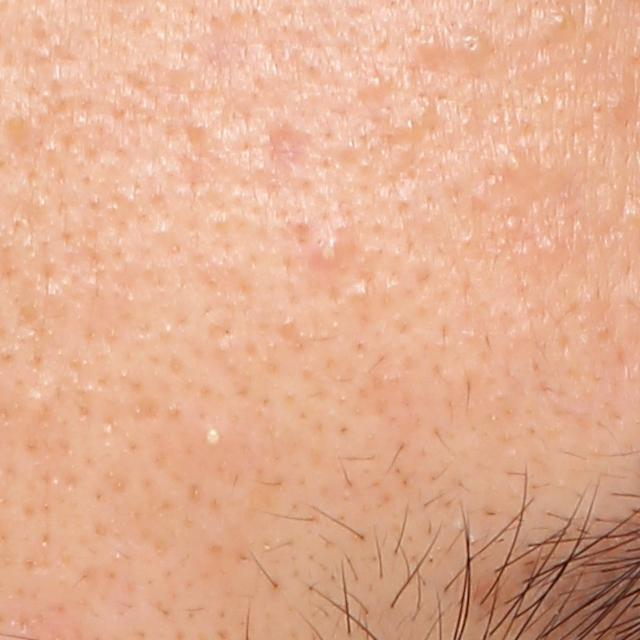comedo: (458, 31, 488, 62), (544, 12, 578, 39), (533, 233, 563, 263), (348, 278, 374, 305), (365, 71, 389, 93)
pustule: (303, 226, 359, 274), (190, 419, 233, 458)
